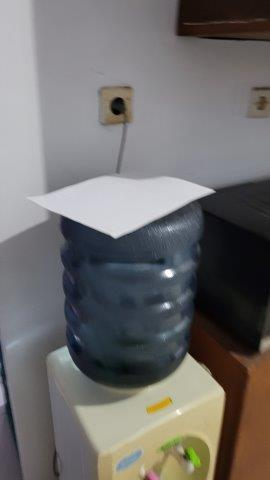kertas: (21, 168, 219, 238)
